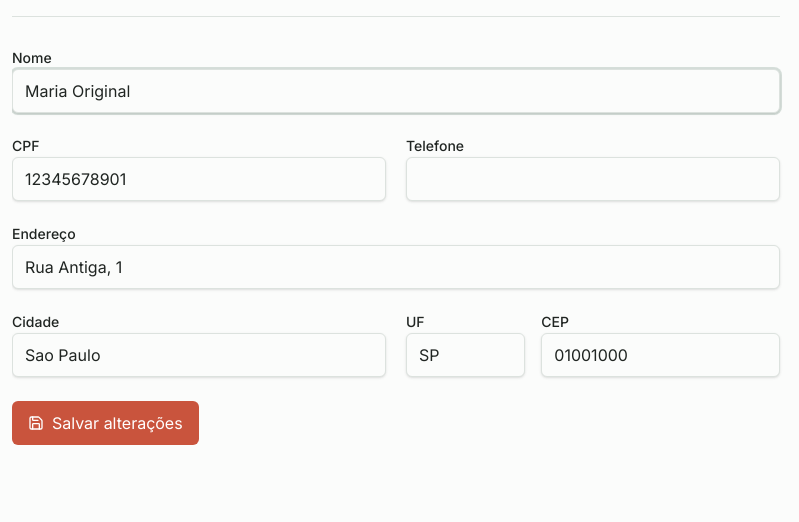
Test: UpdateCustomerForm › preserves the current data when the API rejects the update
This screenshot has width=799, height=522.
Click the button "Salvar alterações".
click(105, 423)  # box [12,401,199,445]
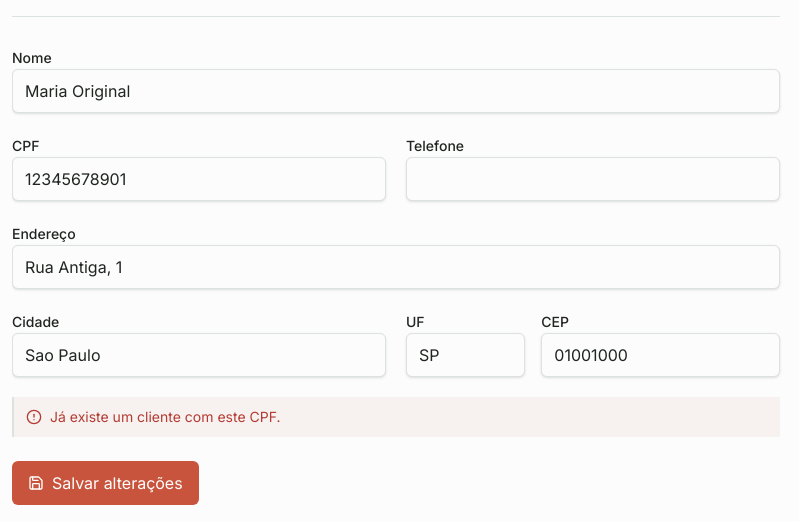
Expected: the field labelled "Nome" holds "Maria Original", [12,69,780,113]
Result: the message reads "Já existe um cliente com este CPF." at [50,408,280,425]
